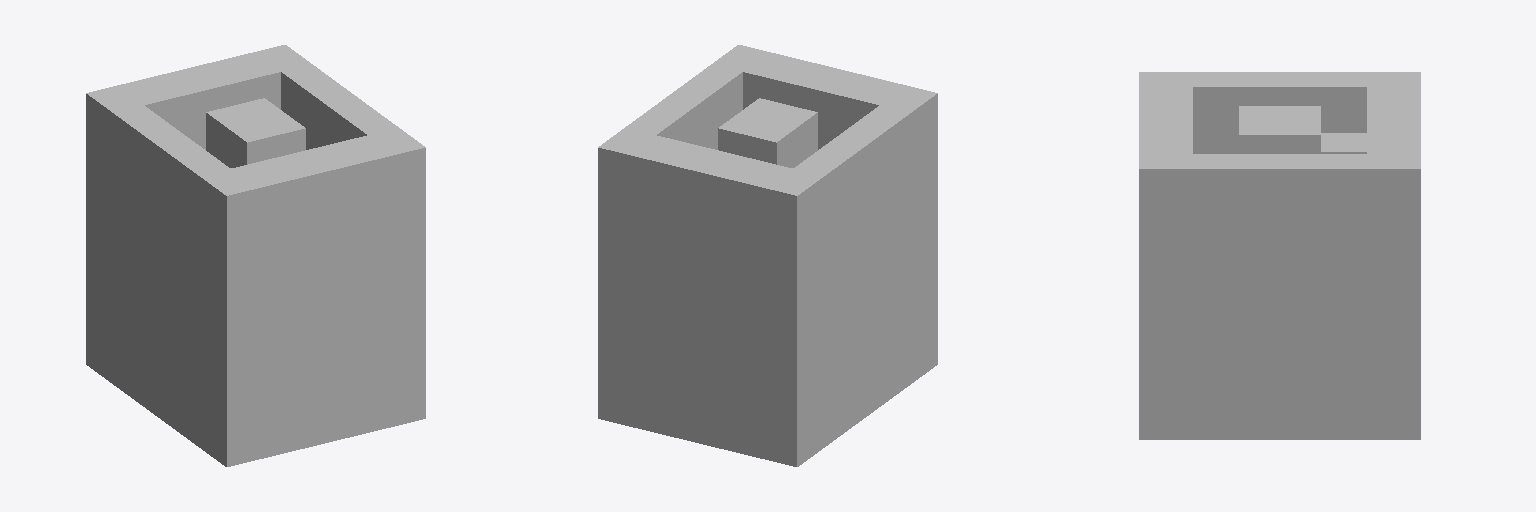
The model's file is level 3.obj.
The picture shows the model from 3 angles: view 1: azimuth 30°, elevation 25°; view 2: azimuth 150°, elevation 25°; view 3: azimuth 270°, elevation 25°; orthographic projection.
Parts seen in each view (by area): view 1: Cube.002, Cube.001; view 2: Cube.002, Cube.001; view 3: Cube.002, Cube.001, Cube.
Part boxes in pixels (left/top/right/bottom): Cube.002: left=86, top=45, right=425, bottom=466; Cube.001: left=206, top=98, right=305, bottom=167; Cube.002: left=598, top=45, right=937, bottom=466; Cube.001: left=718, top=98, right=817, bottom=167; Cube.002: left=1139, top=72, right=1420, bottom=439; Cube.001: left=1239, top=106, right=1320, bottom=153; Cube: left=1321, top=133, right=1366, bottom=153.
Size of the model in its own units: 122 by 159 by 149.